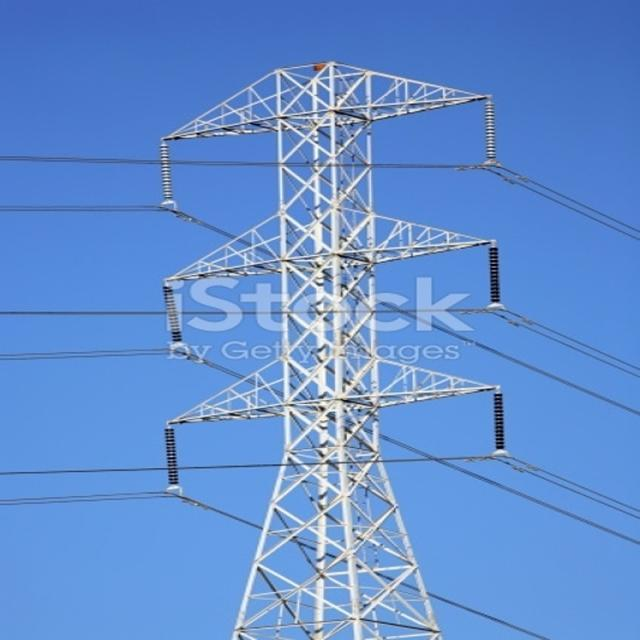non-critical vegetation: (143, 54, 512, 634)
